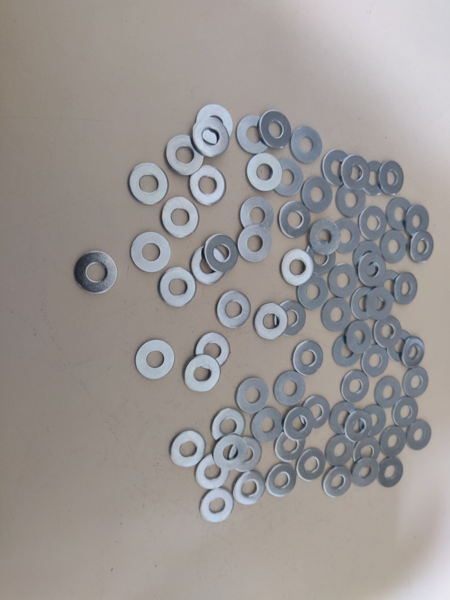circle: (75, 252, 118, 294), (134, 339, 176, 381), (129, 232, 171, 273), (165, 135, 205, 177), (129, 164, 168, 205), (162, 197, 200, 239), (190, 245, 228, 286), (196, 105, 234, 145), (189, 166, 227, 205), (238, 196, 275, 234), (160, 268, 196, 307), (236, 116, 272, 155), (216, 290, 251, 330), (184, 356, 221, 393), (194, 333, 231, 370), (170, 430, 206, 468), (247, 153, 283, 191), (253, 303, 289, 340), (193, 121, 229, 158), (237, 225, 273, 262), (280, 249, 315, 287), (205, 235, 239, 273), (259, 111, 293, 149), (270, 159, 304, 197), (278, 202, 312, 240), (289, 126, 323, 164), (213, 435, 248, 470), (200, 488, 234, 524), (229, 436, 263, 472), (213, 408, 246, 445), (320, 150, 353, 187), (273, 301, 307, 336), (236, 378, 269, 414), (303, 241, 336, 277), (232, 471, 266, 505), (297, 274, 329, 310), (320, 297, 352, 333), (359, 159, 389, 197), (196, 456, 230, 489), (302, 177, 333, 213), (340, 155, 370, 192), (352, 241, 382, 278), (274, 372, 306, 406), (251, 409, 283, 443), (299, 396, 331, 430), (266, 462, 297, 497), (293, 340, 323, 376), (296, 447, 326, 482), (329, 264, 359, 299), (332, 219, 361, 255), (274, 429, 305, 462), (322, 466, 353, 499), (310, 221, 340, 255), (332, 335, 362, 369), (351, 286, 380, 321), (358, 253, 387, 288), (337, 183, 366, 218), (345, 320, 373, 356), (344, 410, 374, 443), (361, 345, 391, 378), (285, 407, 314, 441), (372, 316, 401, 350), (386, 328, 414, 363), (359, 206, 387, 241), (325, 435, 355, 467), (366, 287, 393, 322), (351, 456, 380, 488), (354, 437, 382, 470), (374, 376, 402, 409), (380, 231, 408, 264), (375, 270, 403, 303), (342, 370, 370, 403), (329, 402, 358, 433), (377, 456, 404, 489), (406, 419, 433, 452), (386, 198, 413, 231), (360, 405, 387, 437), (409, 231, 435, 264), (379, 162, 404, 196), (405, 204, 430, 237), (394, 272, 419, 305), (380, 427, 406, 458), (393, 397, 419, 428), (403, 368, 429, 399), (400, 336, 425, 368)
